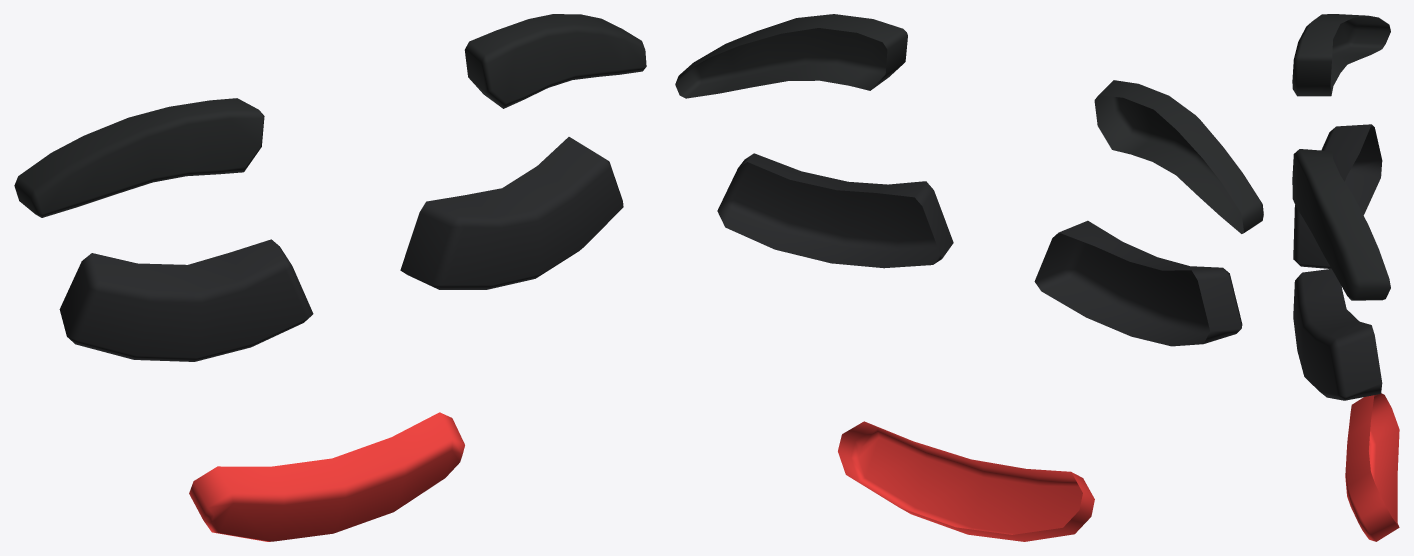
File: Female_Emotion_Usual_01.glb
3 renders of one model, left to right at view 1: azimuth 30°, elevation 25°; view 2: azimuth 150°, elevation 25°; view 3: azimuth 270°, elevation 25°, orthographic. The views are drawn at different scales.
Parts seen in each view (by area): view 1: Female_Emotion_Usual_01; view 2: Female_Emotion_Usual_01; view 3: Female_Emotion_Usual_01.
Boxes of the visible parts, x1=… form: Female_Emotion_Usual_01: x1=14, y1=14, x2=646, y2=541; Female_Emotion_Usual_01: x1=675, y1=14, x2=1263, y2=541; Female_Emotion_Usual_01: x1=1292, y1=14, x2=1399, y2=541.
Bounding box in the file's own units: 0.2564 × 0.1952 × 0.045.
Materials: 1 (1 with a texture image).
